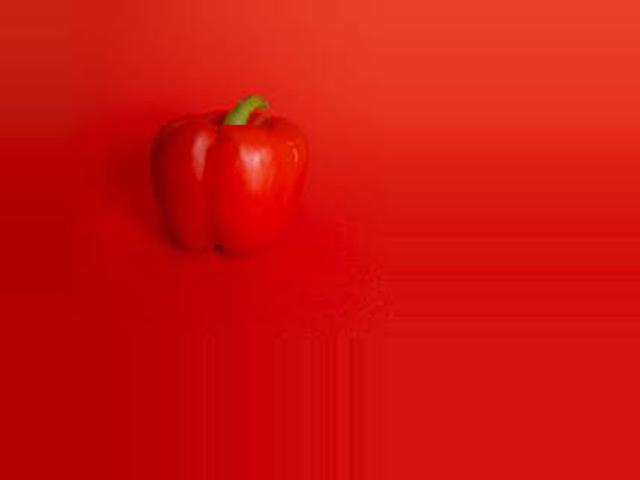bell_pepper: (143, 89, 299, 268)
